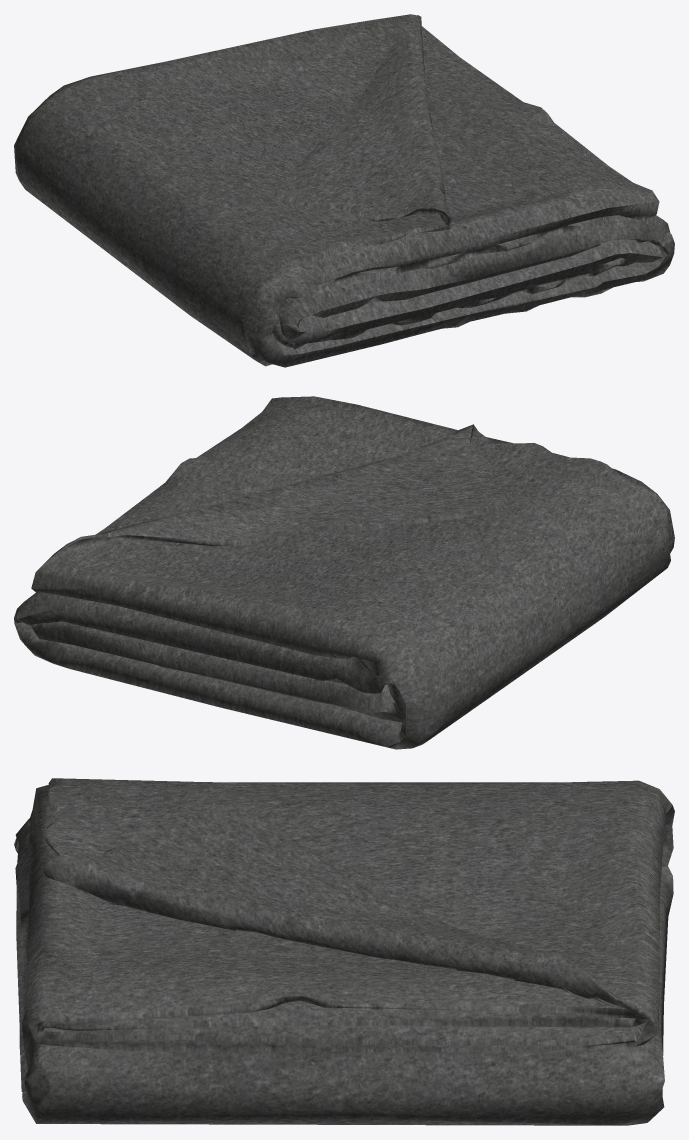
Rendered from daggkapor_pled_70598642.glb.
3 renders of one model, top to bottom at view 1: azimuth 30°, elevation 25°; view 2: azimuth 150°, elevation 25°; view 3: azimuth 270°, elevation 25°, orthographic. The views are drawn at different scales.
Visible parts, largest first — view 1: daggkapor_pled_70598642; view 2: daggkapor_pled_70598642; view 3: daggkapor_pled_70598642.
Part boxes in pixels (x1,y1,x2,y2): daggkapor_pled_70598642: (14,14,674,367); daggkapor_pled_70598642: (14,396,674,749); daggkapor_pled_70598642: (14,778,674,1125).
Size of the model in its own units: 0.3363 by 0.0867 by 0.3576.
Materials: 1 (1 with a texture image).
